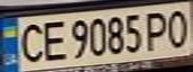0: (87, 15, 109, 57)
5: (124, 11, 148, 54)
8: (106, 12, 127, 56)
9: (66, 16, 90, 60)
C: (15, 19, 48, 64)
E: (36, 17, 69, 63)
O: (163, 7, 193, 50)
P: (142, 8, 172, 52)
